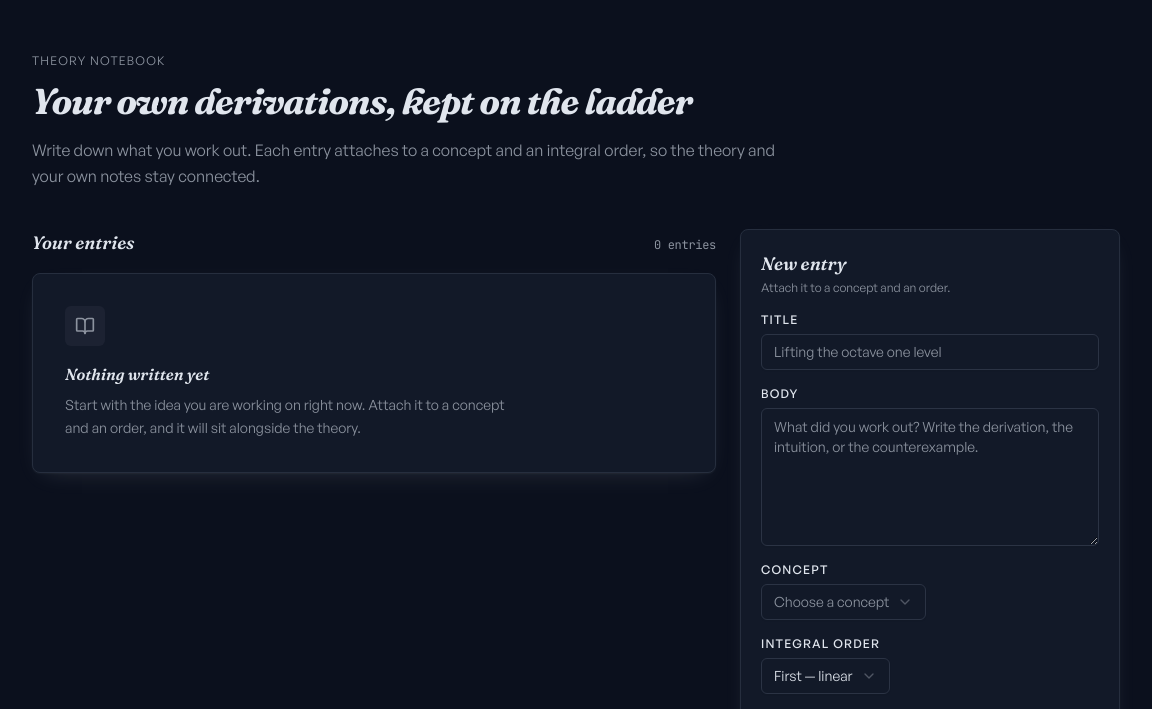
it: NotebookPage › refuses to save an incomplete draft and explains why
This screenshot has width=1152, height=709.
Expected: the element with test id "notebook.empty_state" is shown, [32,273,716,472]
Type "Only a title" into the field with test id "notebook.title_input".
click(930, 352); type("Only a title")  # box [761,334,1099,370]
(page scrolled)
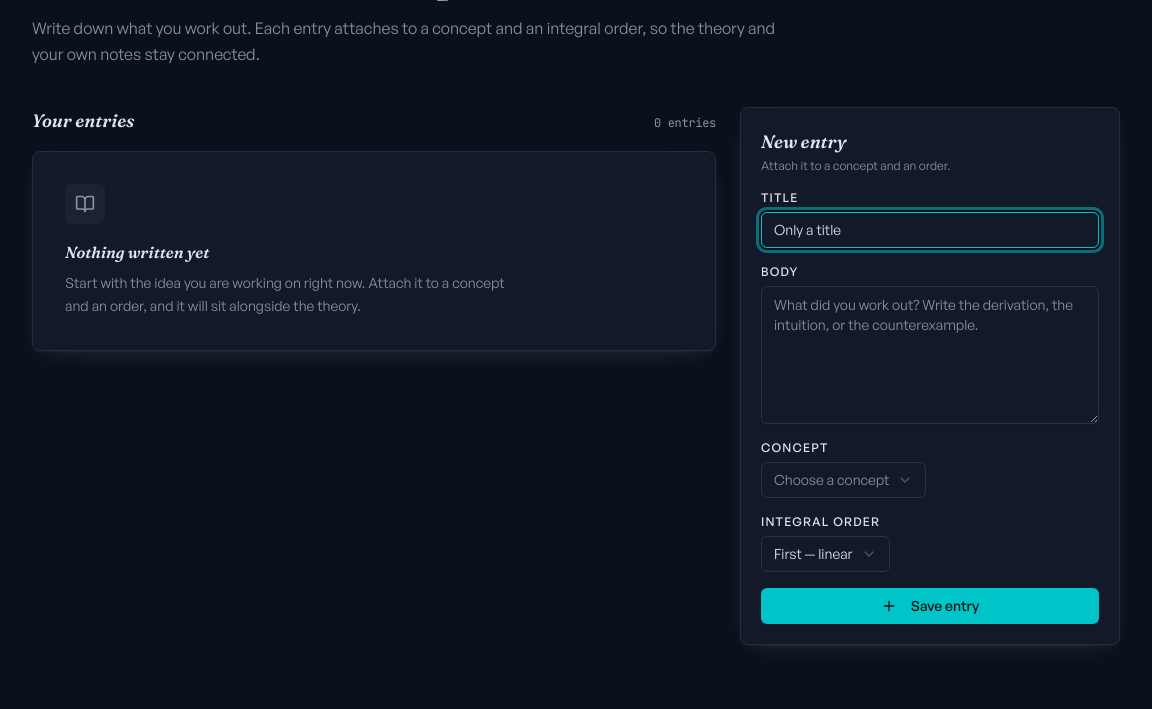
Click the button with test id "notebook.submit_button".
click(930, 606)  # box [761,588,1099,624]
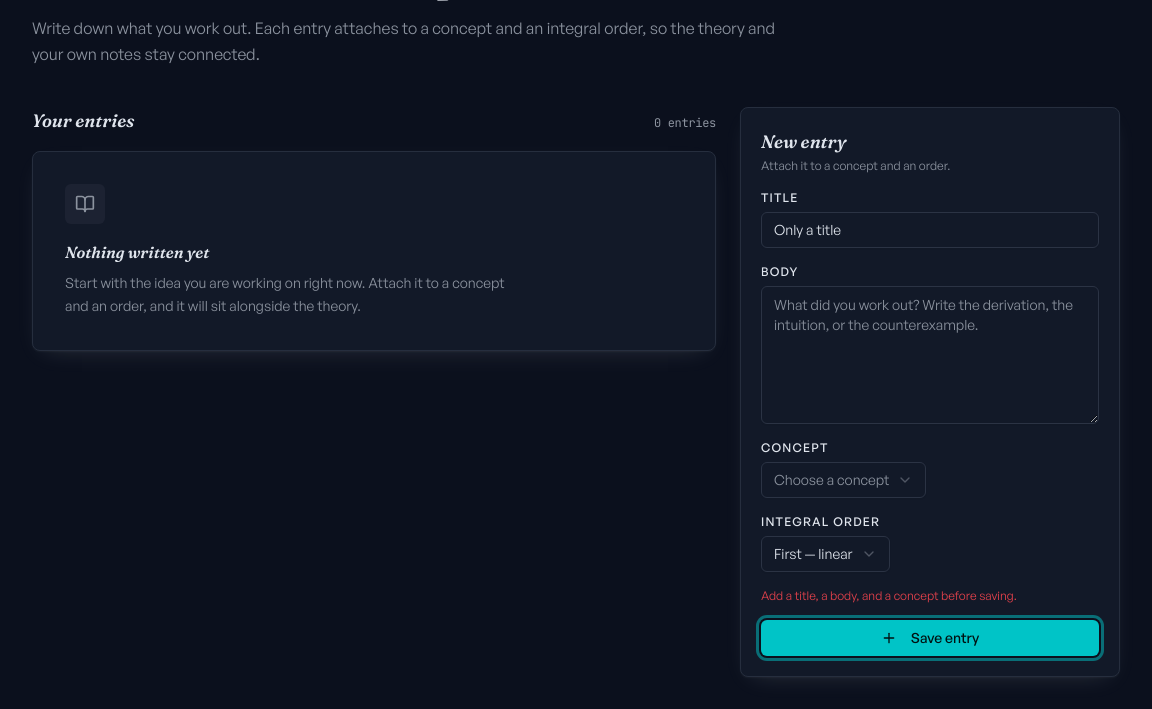
Expected: the message with test id "notebook.error_message" shows "Add a title, a body, and a concept", [761,588,1017,603]
